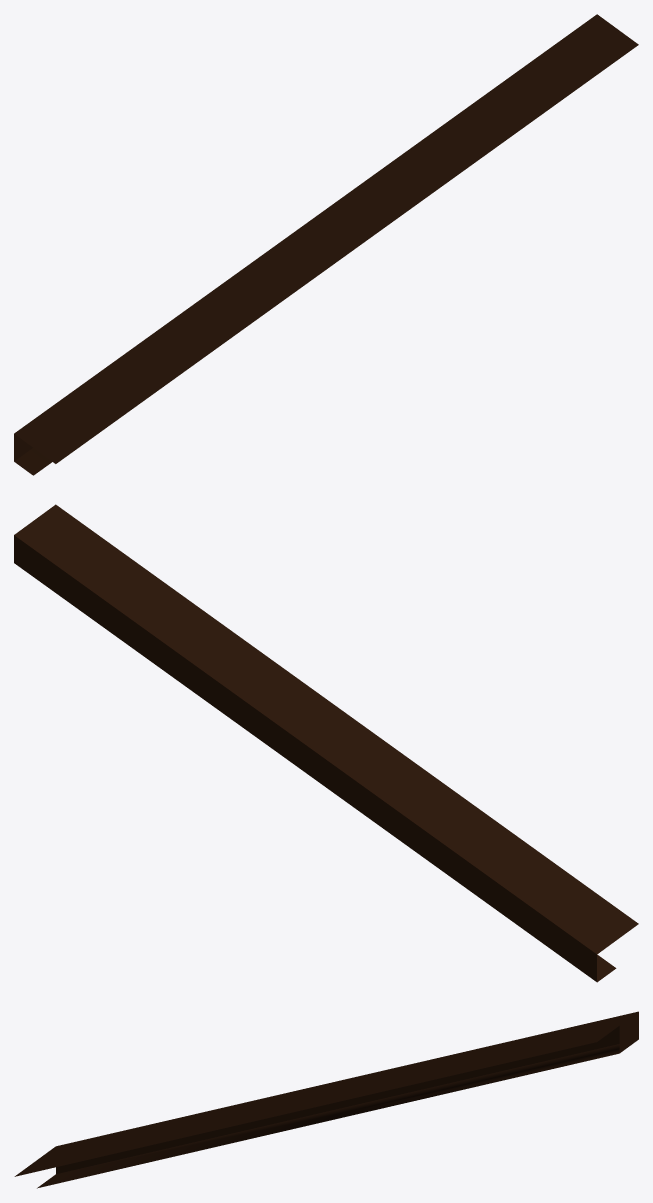
File: Roof_Side_01B.fbx
3 renders of one model, top to bottom at view 1: azimuth 30°, elevation 25°; view 2: azimuth 150°, elevation 25°; view 3: azimuth 330°, elevation 25°, orthographic.
Visible parts, largest first — view 1: Roof_Side_01B; view 2: Roof_Side_01B; view 3: Roof_Side_01B.
Boxes of the visible parts, <box> form: Roof_Side_01B: <box>14,14,638,475</box>; Roof_Side_01B: <box>14,504,638,982</box>; Roof_Side_01B: <box>14,1011,638,1188</box>.
Bounding box in the file's own units: 300 × 150 × 37.28.
